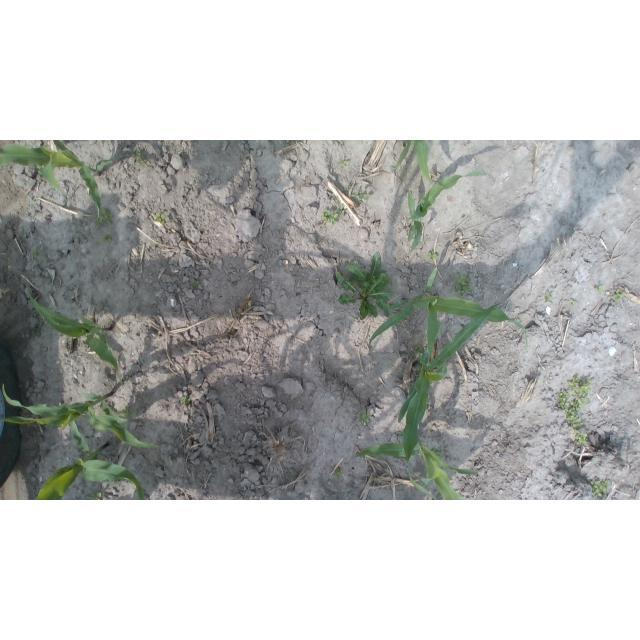Maize: (397, 302, 512, 500), (369, 268, 530, 356), (1, 383, 162, 450), (0, 140, 112, 228), (34, 420, 145, 500), (26, 284, 119, 373), (351, 437, 477, 500), (409, 171, 488, 252), (396, 141, 433, 182)
Weeds: (335, 251, 393, 319), (568, 374, 595, 405), (566, 399, 584, 429), (323, 205, 345, 224), (455, 275, 474, 296), (590, 480, 610, 499), (351, 190, 370, 205), (96, 211, 112, 227), (119, 408, 136, 421), (133, 147, 147, 162), (558, 391, 569, 410), (154, 211, 167, 225), (576, 431, 588, 446), (360, 410, 371, 424), (88, 492, 102, 500), (616, 289, 624, 303), (415, 345, 425, 356), (427, 252, 439, 261), (338, 157, 349, 166), (32, 248, 40, 260), (333, 469, 343, 478), (432, 449, 442, 458), (544, 293, 552, 304), (595, 285, 605, 293), (182, 396, 190, 405), (192, 280, 201, 288), (104, 235, 113, 242), (343, 185, 350, 192), (571, 300, 578, 307), (100, 412, 109, 417), (284, 140, 293, 144), (36, 165, 44, 169), (119, 374, 123, 380), (335, 200, 339, 205)
